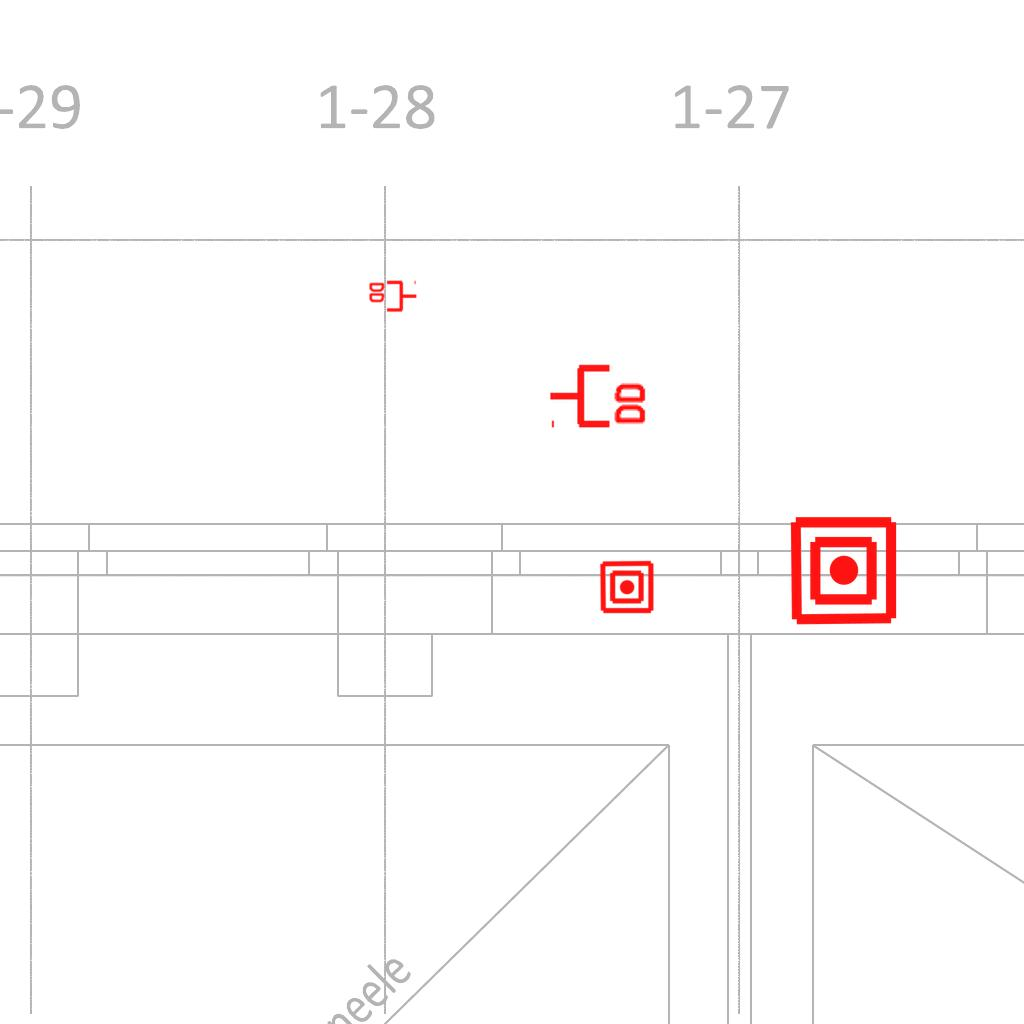Datenanschluss_zweifach: (547, 360, 650, 429), (367, 280, 418, 314)
NAM-Nichtautomatischer_Melder: (787, 514, 900, 627), (599, 559, 655, 615)
